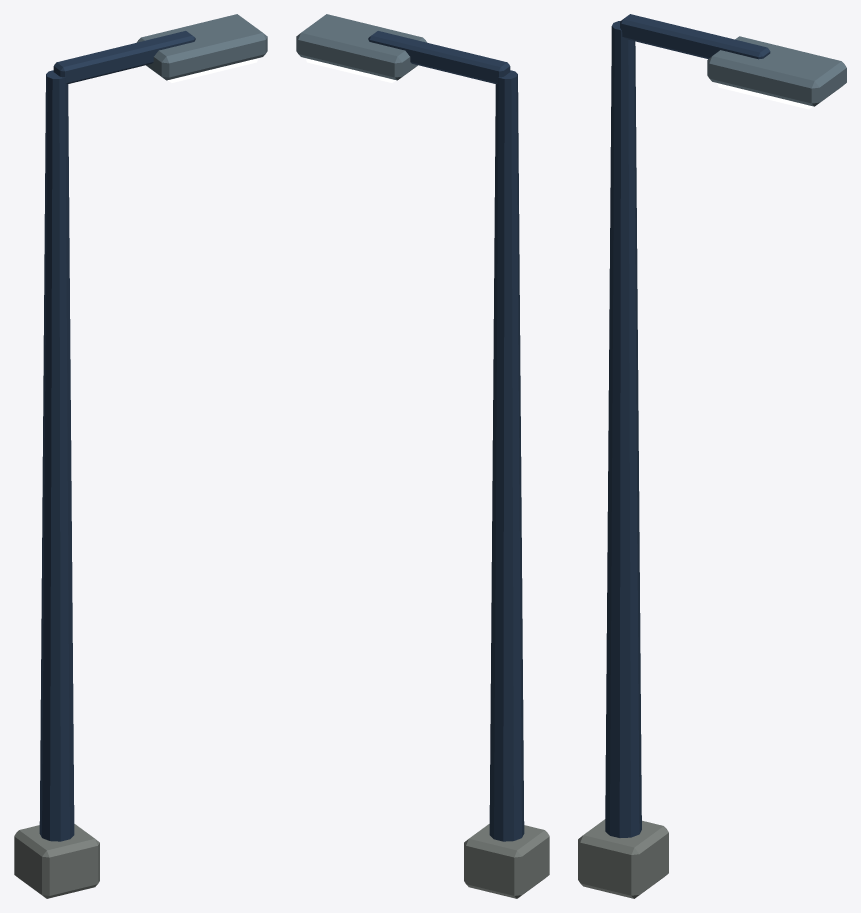
File: objects-streetlamp.lod0.glb
The picture shows the model from 3 angles, left to right: view 1: azimuth 30°, elevation 25°; view 2: azimuth 150°, elevation 25°; view 3: azimuth 330°, elevation 25°; orthographic projection. The views are drawn at different scales.
Visible parts, largest first — view 1: objects-streetlamp__body; view 2: objects-streetlamp__body; view 3: objects-streetlamp__body.
Boxes of the visible parts, x1,y1,x2,y2 form: objects-streetlamp__body: (14, 14, 267, 898); objects-streetlamp__body: (296, 14, 549, 898); objects-streetlamp__body: (578, 14, 846, 898).
Bounding box in the file's own units: 1.17 × 4.05 × 0.3.
